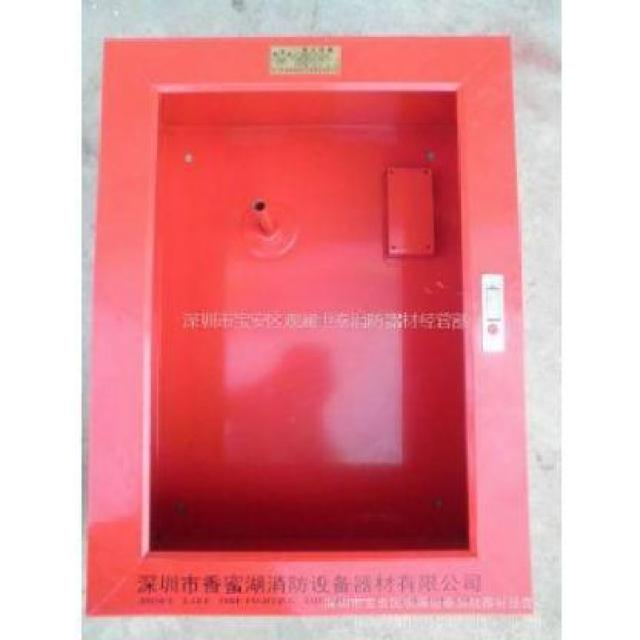firehydrant: (78, 31, 541, 624)
